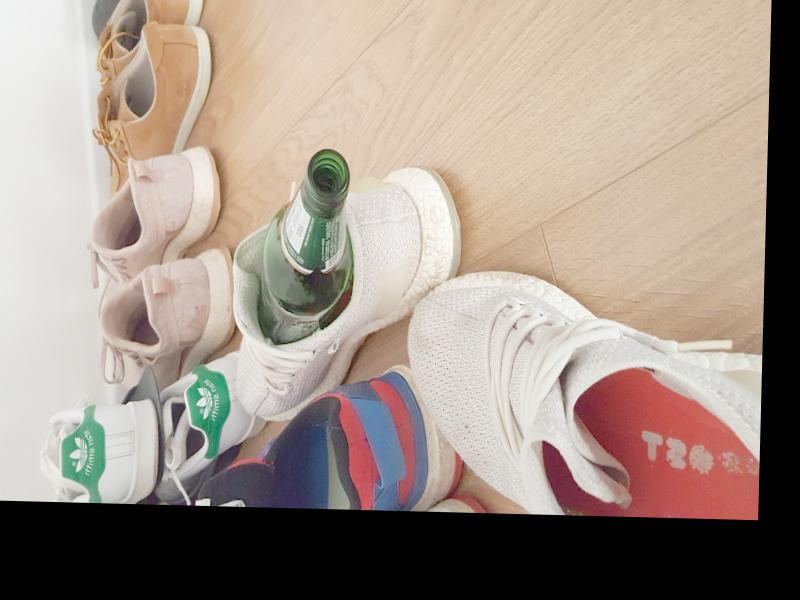Beer: (256, 146, 352, 344)
